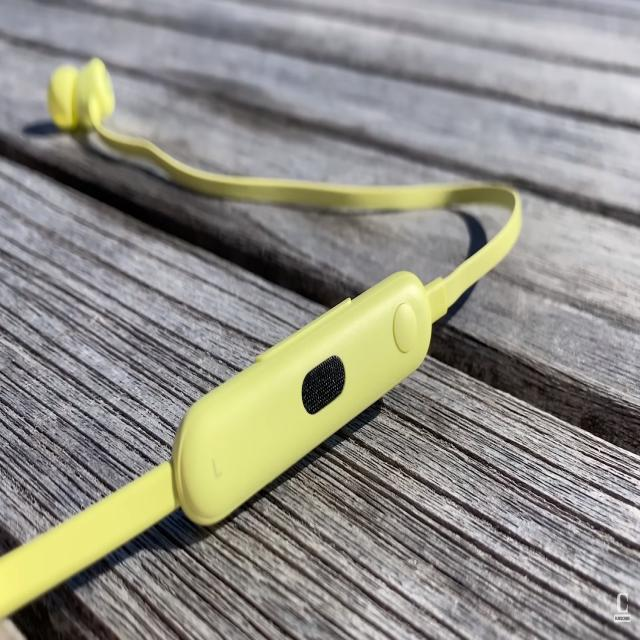Neckband: (0, 54, 523, 616)
